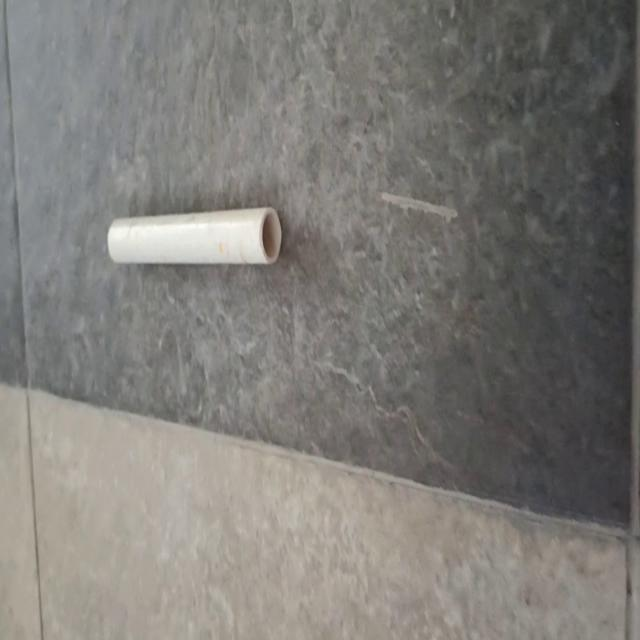Cube: (106, 204, 282, 266)
